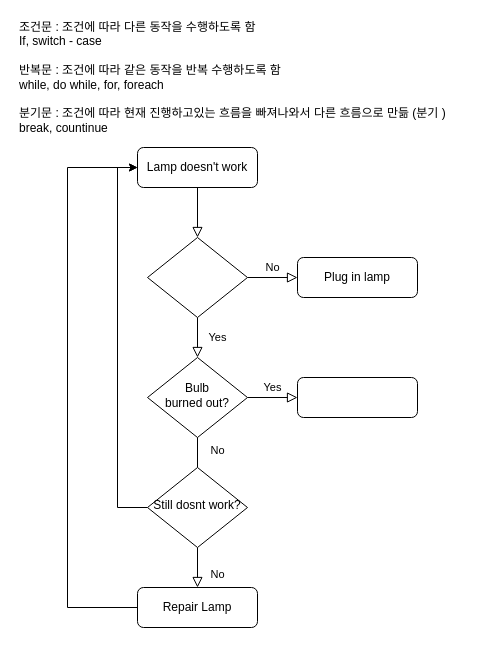
The diagram is 504 pixels wide and 645 high, and some of its shapes have lost their labels. The shapes that lost their labels are listed below. From the top down, each one's box as (x1, y1, x2, y2) in pixels, then its label:
(146, 236, 248, 318): Lamp plugged in?
(296, 376, 418, 418): Replace Bulb
